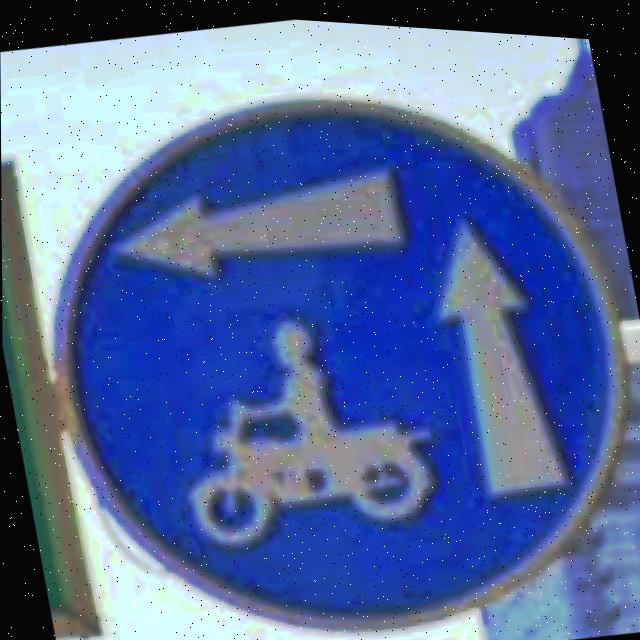twostageturn: (65, 104, 608, 612)
